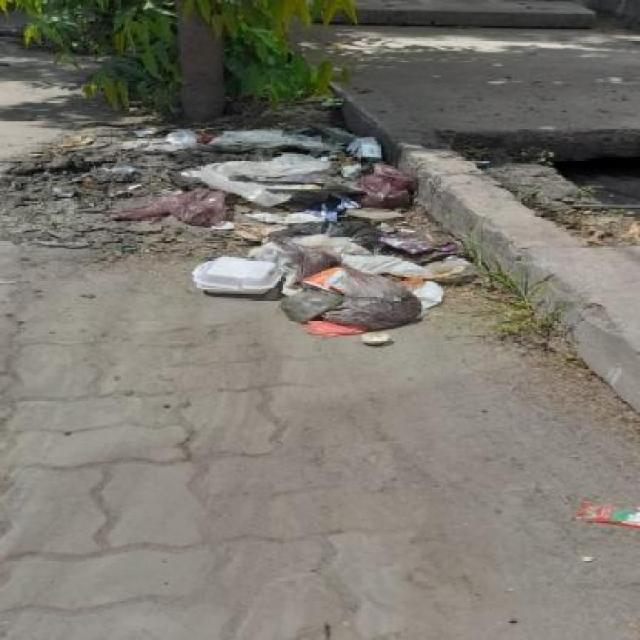garbage: (3, 85, 550, 384)
